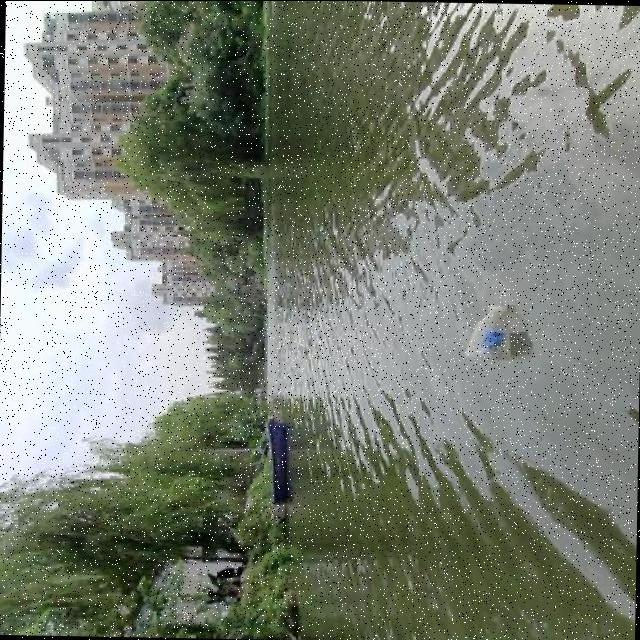Bottle: (456, 298, 518, 367)
